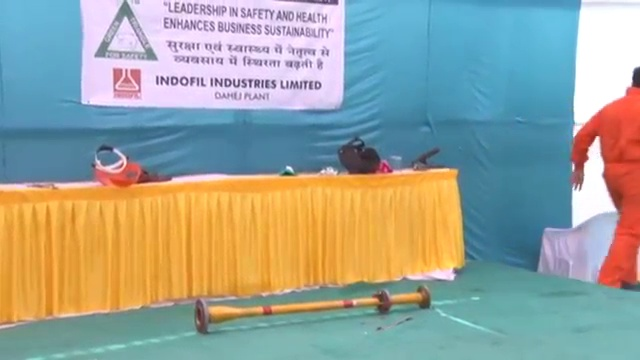helmet_off: (632, 63, 640, 90)
person: (571, 60, 640, 290)
